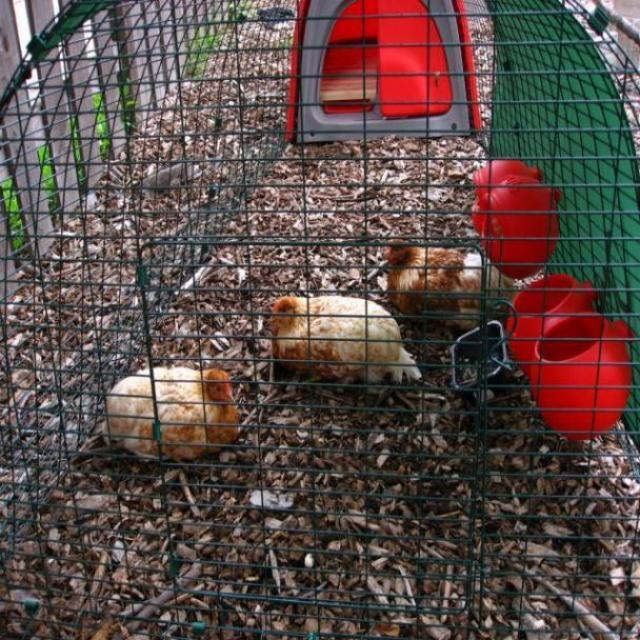Chicken: (259, 277, 419, 399), (102, 367, 237, 469), (382, 241, 518, 330)
